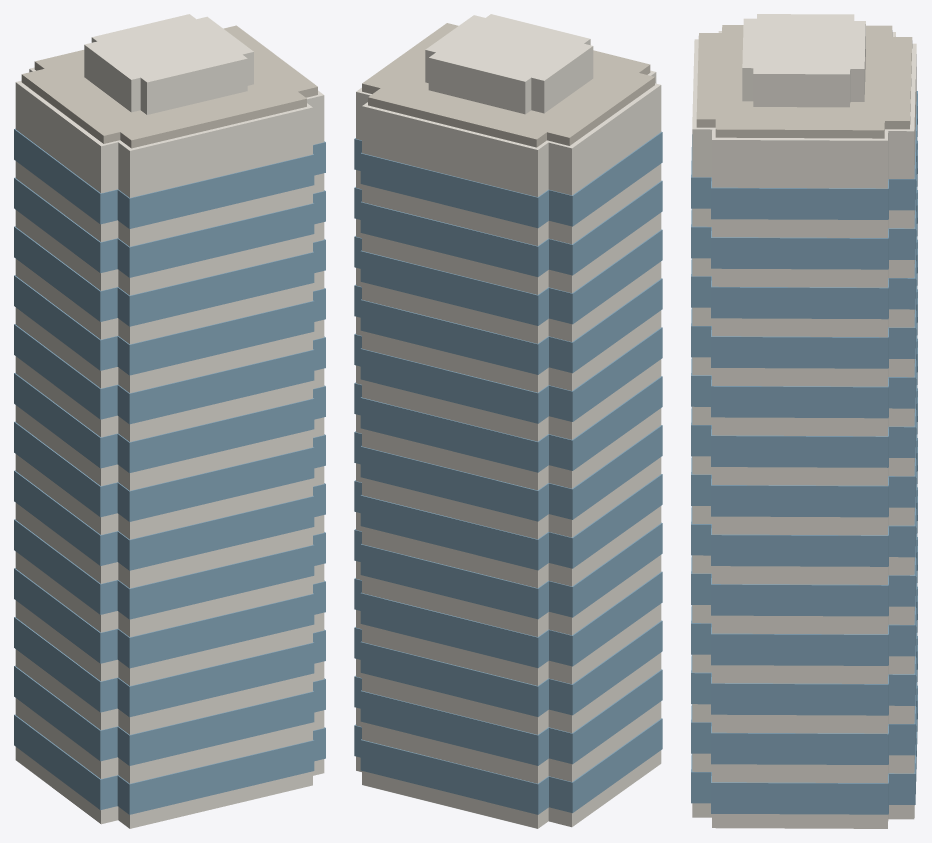
The model's file is sakura_tower.glb.
3 renders of one model, left to right at view 1: azimuth 30°, elevation 25°; view 2: azimuth 150°, elevation 25°; view 3: azimuth 270°, elevation 25°, orthographic.
Parts seen in each view (by area): view 1: part; view 2: part; view 3: part.
Boxes of the visible parts, bbox=[...] form: part: bbox=[14, 14, 325, 828]; part: bbox=[354, 14, 662, 828]; part: bbox=[691, 14, 917, 828].
Size of the model in its own units: 34.55 by 106 by 29.87.
